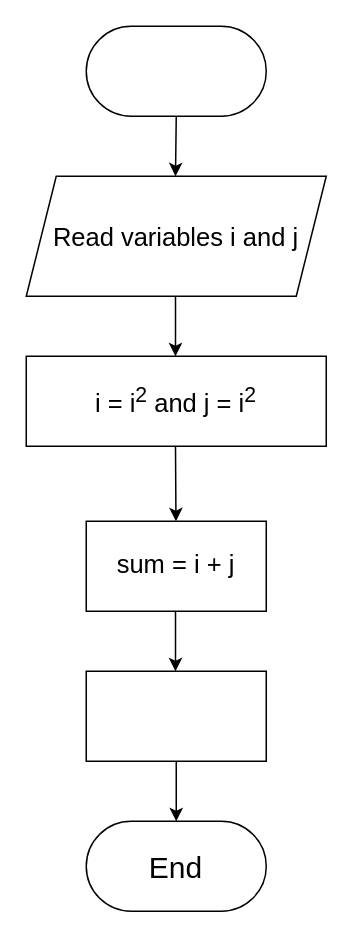
The diagram is 353 pixels wide and 938 high, and some of its shapes have lost their labels. Here are the shapes that lost their labels. From the top down, the centre of each, then its label:
At (175,70): "Start".
At (175,715): "print sum".
